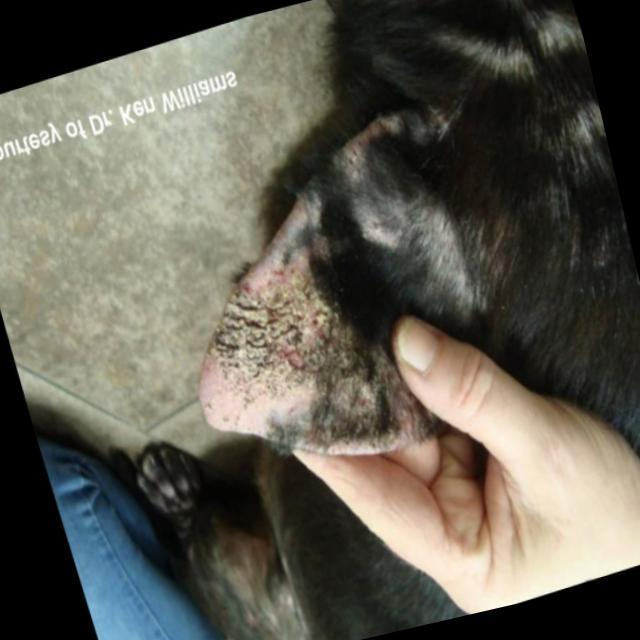mange: (206, 213, 396, 458)
